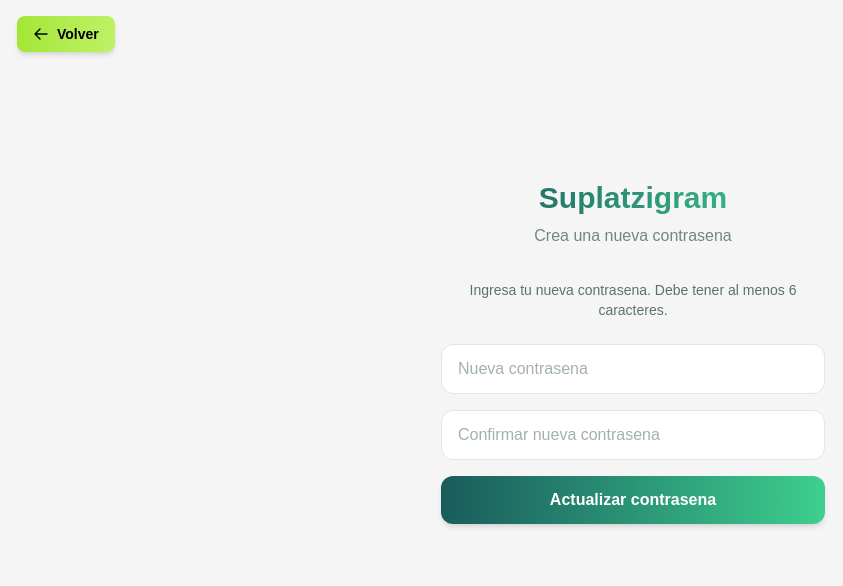
Scenario: ResetPasswordPage › Form Submission - Error › shows Supabase error when updateUser returns error
The image size is (843, 586).
In the password field with placeholder "Nueva contrasena": (633, 369) [441,344,825,394], type "samepassword123"
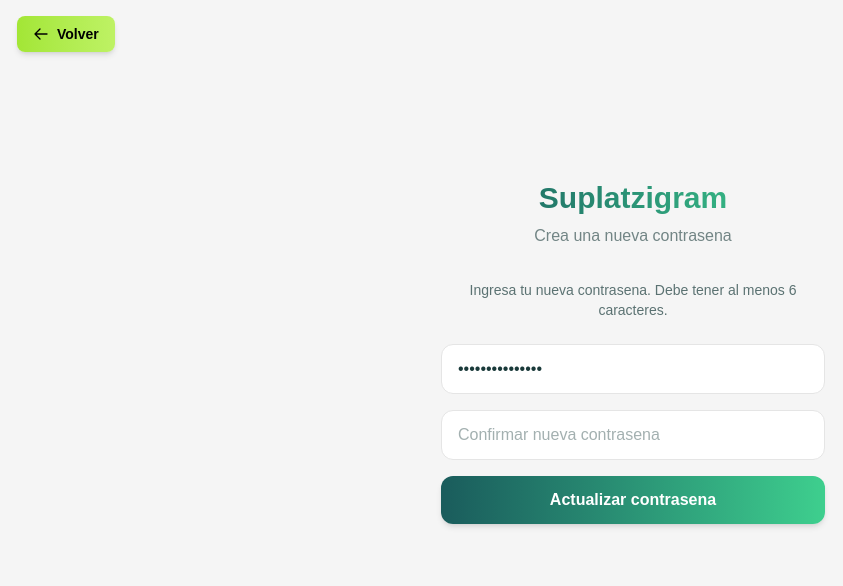
In the password field with placeholder "Confirmar nueva contrasena": (633, 435) [441,410,825,460], type "samepassword123"
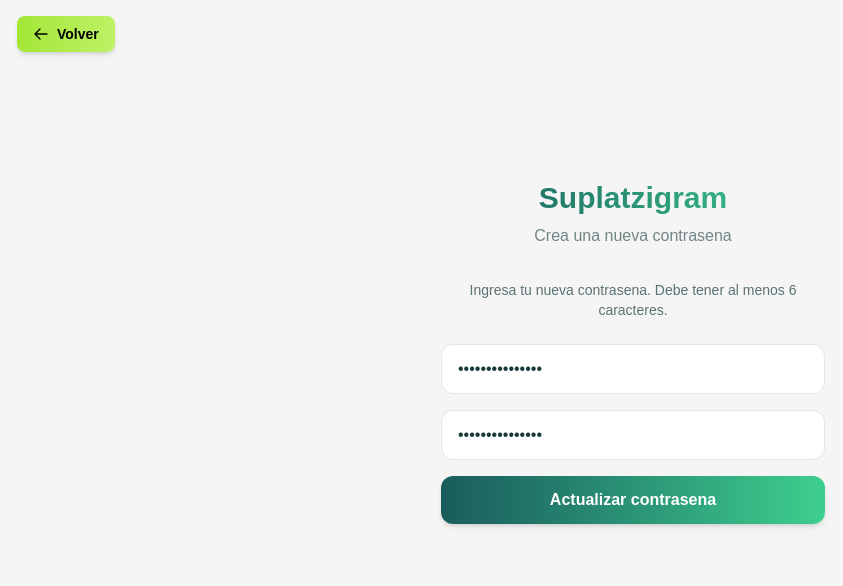
Click the button "Actualizar contrasena": (633, 500) [441,476,825,524]
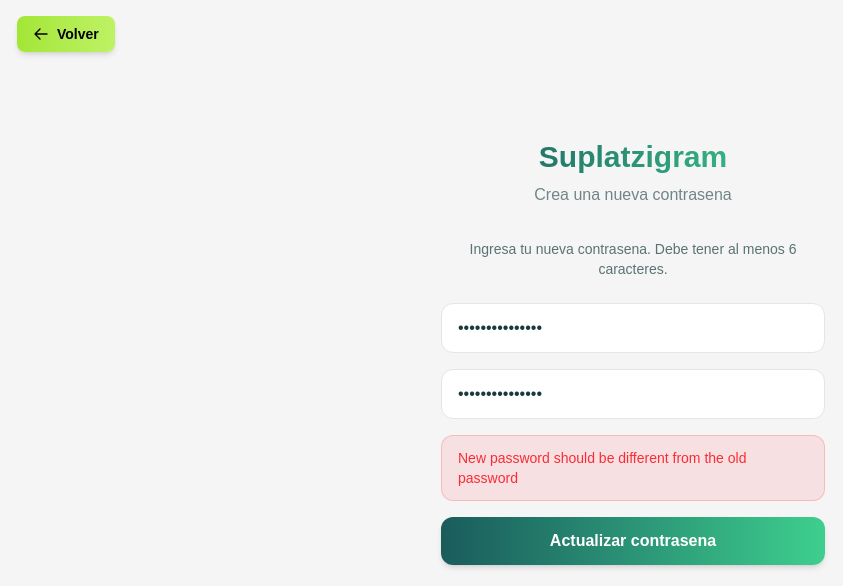
Now the text "New password should be different from the old password" is shown, box [441,435,825,501]
